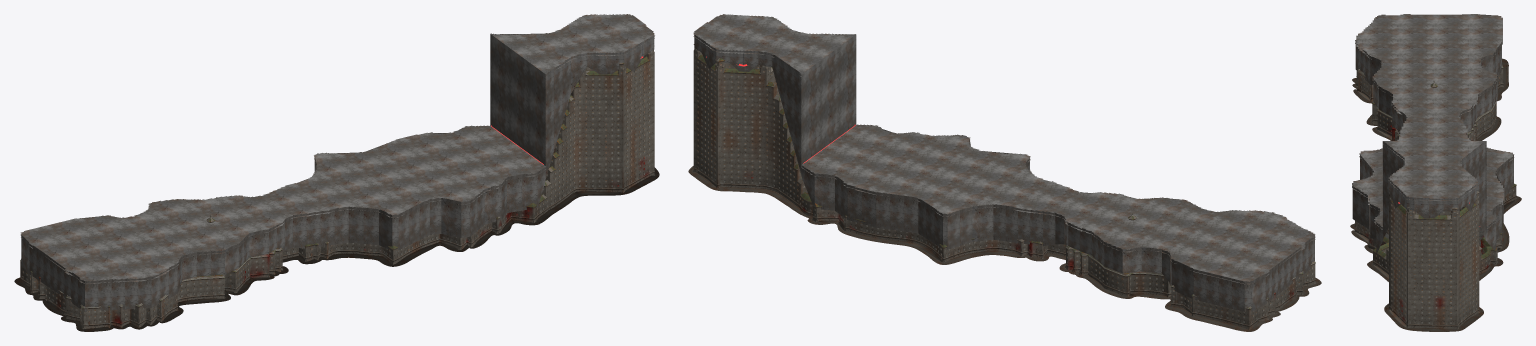
The model's file is zombie_town_textured.glb.
3 views of the same model, side by side, from view 1: azimuth 30°, elevation 25°; view 2: azimuth 150°, elevation 25°; view 3: azimuth 270°, elevation 25° (orthographic). The views are drawn at different scales.
Visible parts, largest first — view 1: Plafond_et_neons, Object_6, Object_3, Object_5; view 2: Plafond_et_neons, Object_6, Object_3, Object_5; view 3: Plafond_et_neons, Object_6, Object_3, Object_5.
Boxes of the visible parts, x1,y1,x2,y2 form: Plafond_et_neons: (20, 14, 654, 311); Object_6: (20, 50, 654, 328); Object_3: (14, 56, 659, 331); Object_5: (30, 67, 618, 301); Plafond_et_neons: (693, 14, 1315, 311); Object_6: (693, 44, 1315, 329); Object_3: (688, 61, 1321, 331); Object_5: (715, 58, 1299, 300); Plafond_et_neons: (1352, 14, 1514, 254); Object_6: (1354, 65, 1516, 329); Object_3: (1350, 58, 1521, 331); Object_5: (1368, 101, 1516, 262).
Size of the model in its own units: 111 by 24.74 by 29.3.
12 materials, 4 textured.
